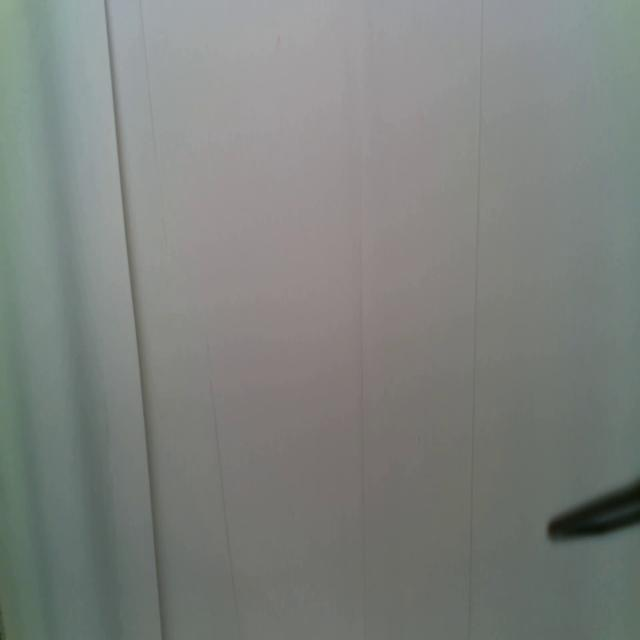crease: (106, 0, 164, 640), (465, 0, 485, 639), (210, 380, 240, 622), (139, 0, 161, 159), (358, 265, 368, 582)
